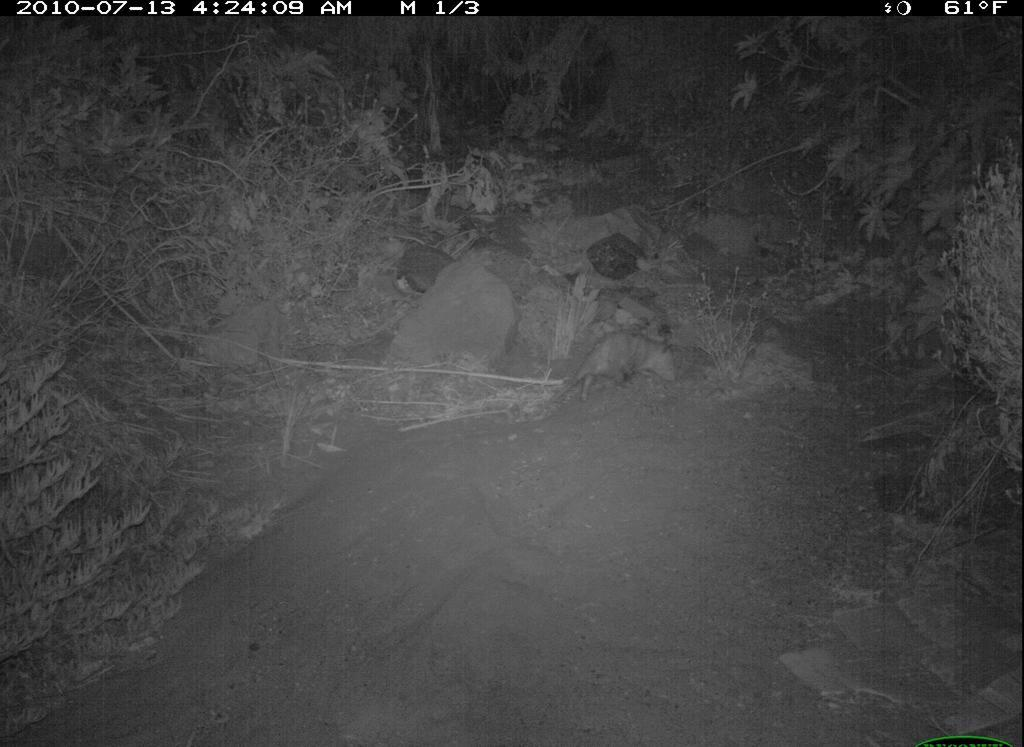opossum: (556, 328, 684, 411)
